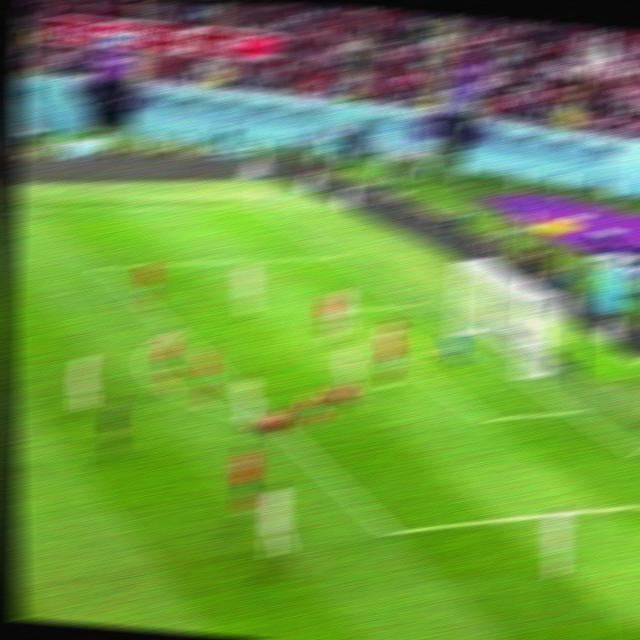bigarea_bottom_inner: (376, 518, 404, 545)
bigarea_top_inner: (90, 259, 112, 274)
bigarea_top_outter: (326, 249, 345, 261)
corner: (246, 202, 267, 210)
smallarea_bottom_inner: (472, 407, 496, 429)
smallarea_bottom_outter: (564, 402, 584, 417)
smallarea_top_outter: (402, 297, 421, 312)
top_arc_area_intersection: (163, 325, 179, 335)
